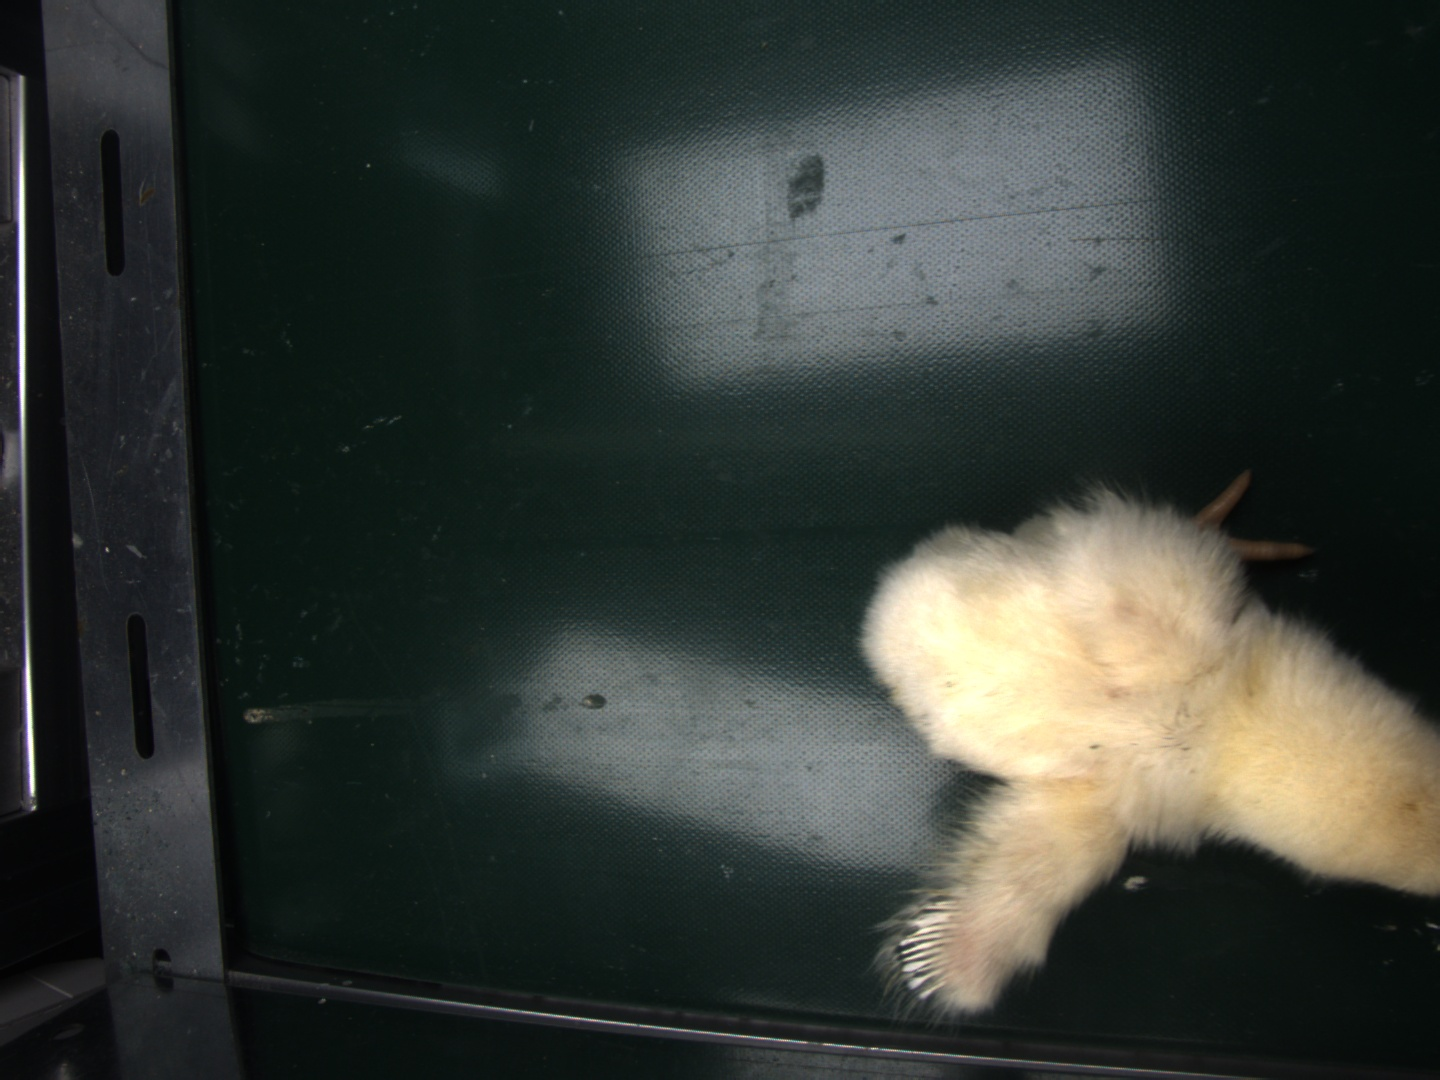male: (900, 900, 963, 999)
